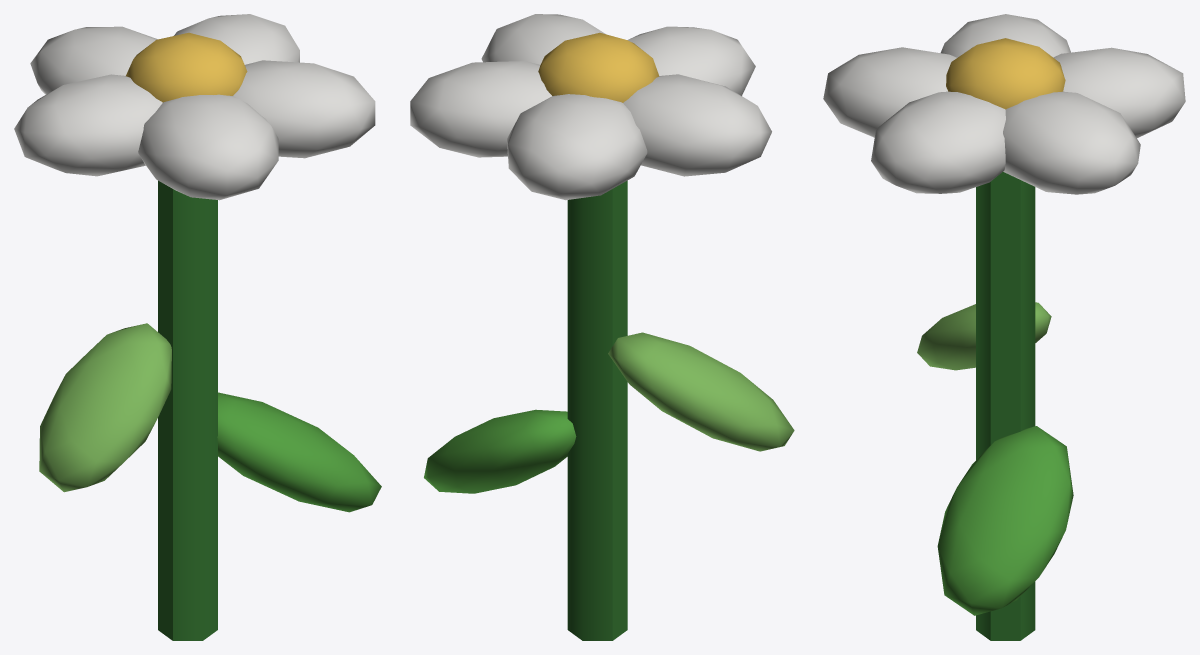
Rendered from flower_white.fbx.
The picture shows the model from 3 angles, left to right: view 1: azimuth 30°, elevation 25°; view 2: azimuth 150°, elevation 25°; view 3: azimuth 270°, elevation 25°; orthographic projection.
Parts seen in each view (by area): view 1: flower_white_stem, flower_white_head; view 2: flower_white_stem, flower_white_head; view 3: flower_white_head, flower_white_stem.
Part boxes in pixels (box(x1,y1,x2,y2)): flower_white_stem: box(39, 180, 381, 640); flower_white_head: box(14, 14, 375, 200); flower_white_stem: box(424, 180, 794, 640); flower_white_head: box(410, 14, 771, 200); flower_white_head: box(823, 14, 1185, 194); flower_white_stem: box(917, 172, 1073, 640).
Bounding box in the file's own units: 0.1841 × 0.303 × 0.1704.
